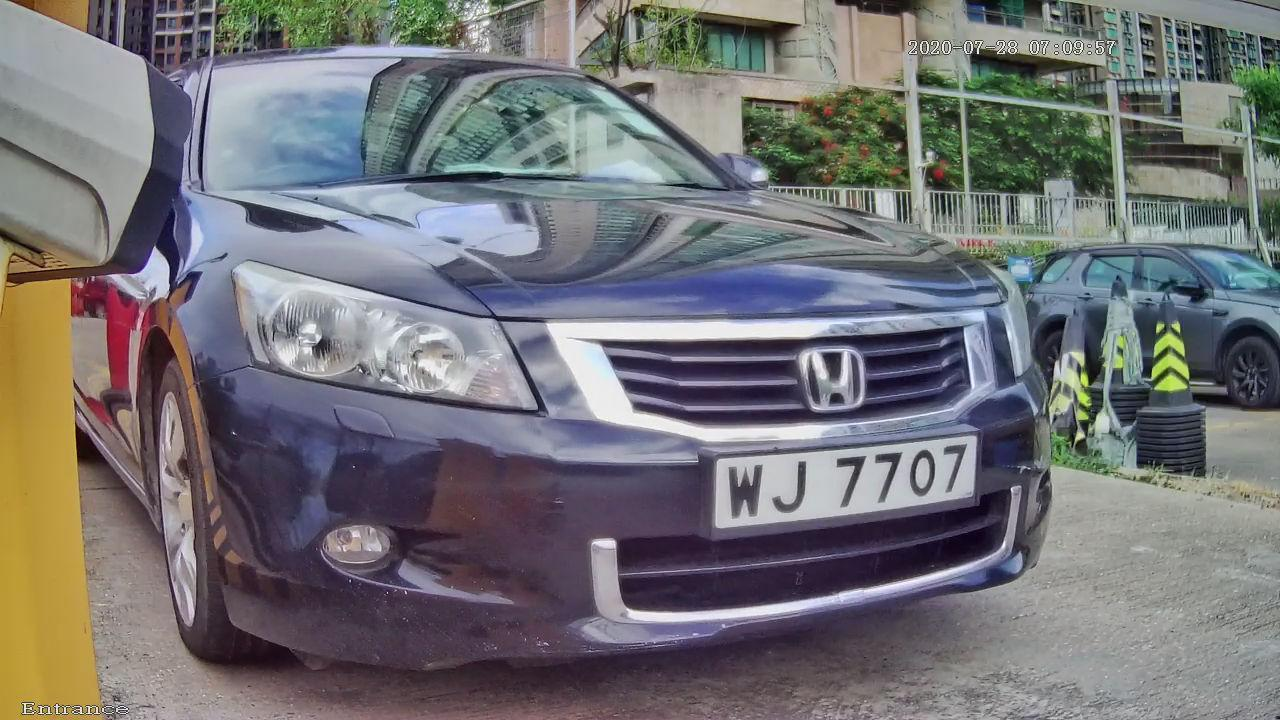privatecar: (29, 33, 1195, 692)
